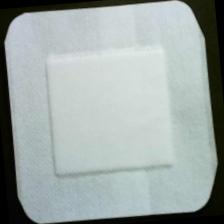Dressing: (1, 1, 223, 224)
